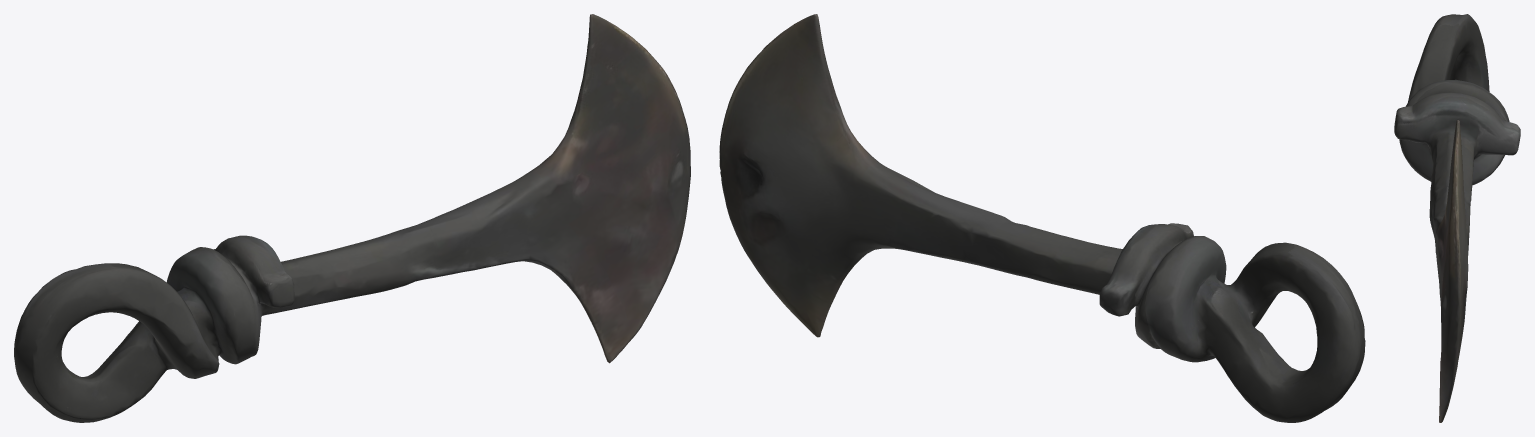
File: pblade2.glb
The picture shows the model from 3 angles, left to right: view 1: azimuth 30°, elevation 25°; view 2: azimuth 150°, elevation 25°; view 3: azimuth 270°, elevation 25°; orthographic projection. The views are drawn at different scales.
Visible parts, largest first — view 1: pbalde; view 2: pbalde; view 3: pbalde.
Part boxes in pixels (box(x1,y1,x2,y2)): pbalde: box(14, 14, 690, 422); pbalde: box(719, 14, 1365, 422); pbalde: box(1394, 14, 1520, 422).
Bounding box in the file's own units: 5.49 × 2.69 × 1.03.
1 material, 1 textured.
